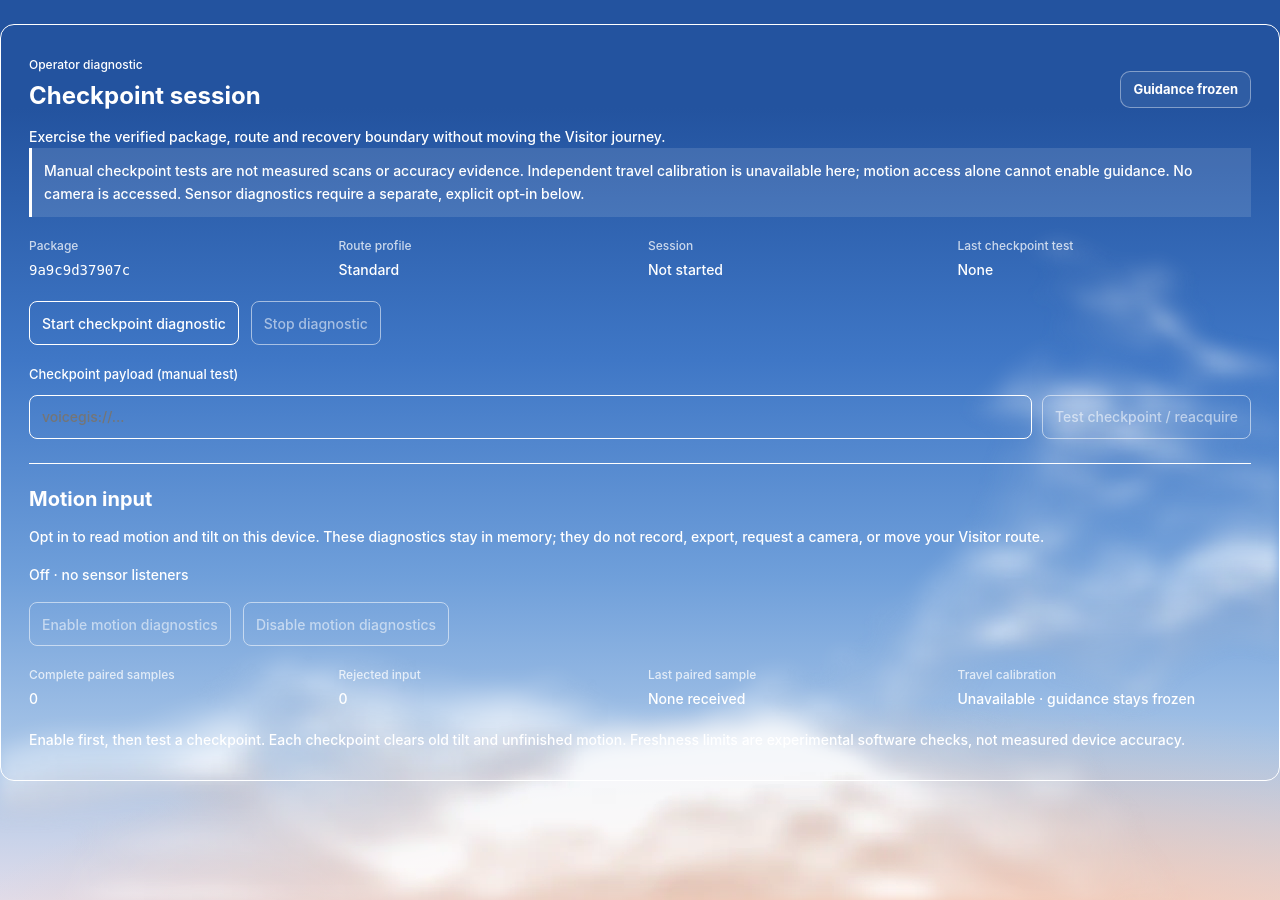
Test: operator checkpoint session UI › reports package verification failure without enrolling
The image size is (1280, 900).
What coordinates should you click on to do the following:
click the button "Start checkpoint diagnostic"
I would click on:
 (134, 323)
Its box is [29,301,239,345].
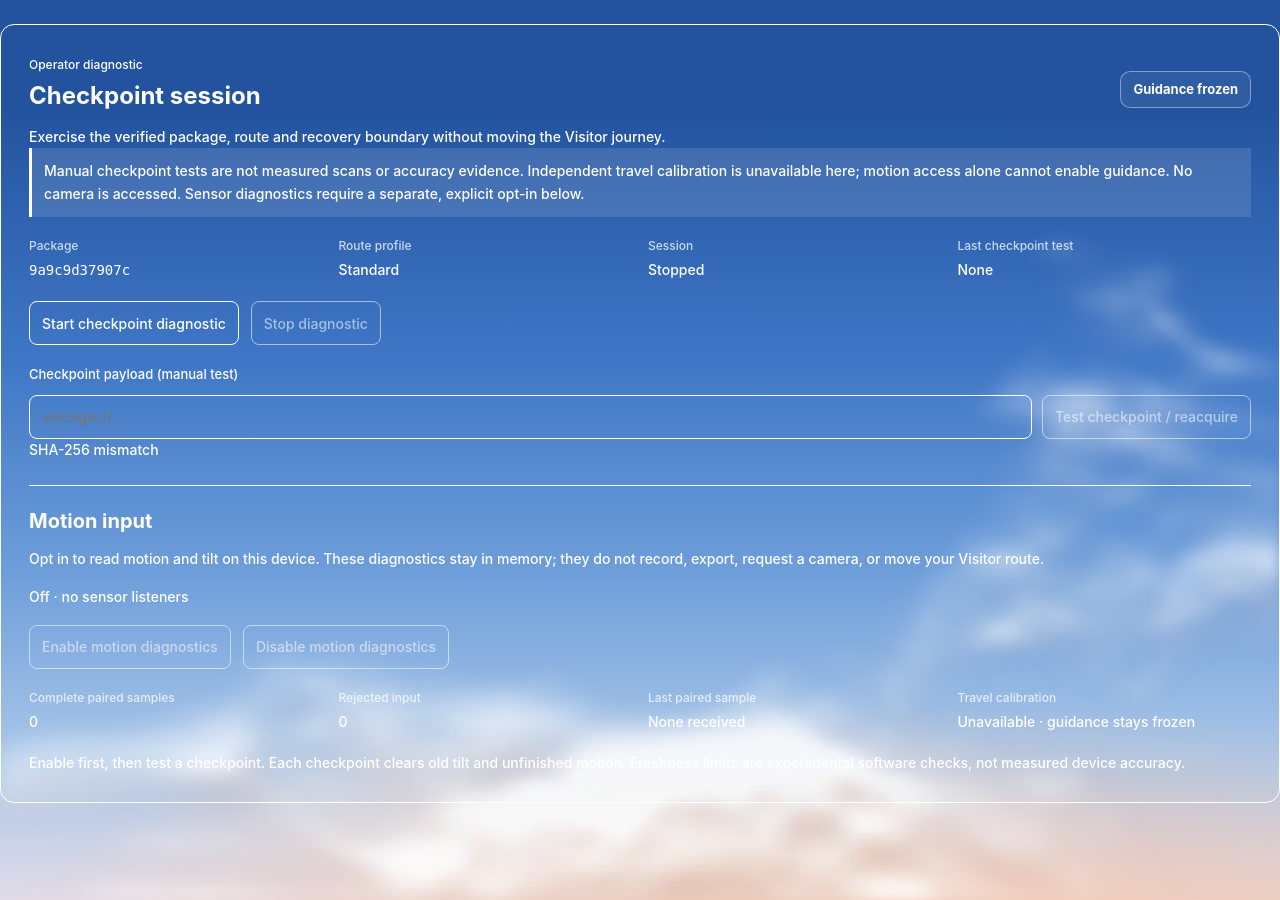
Check: the message reads "SHA-256 mismatch", box [29,441,159,458]
